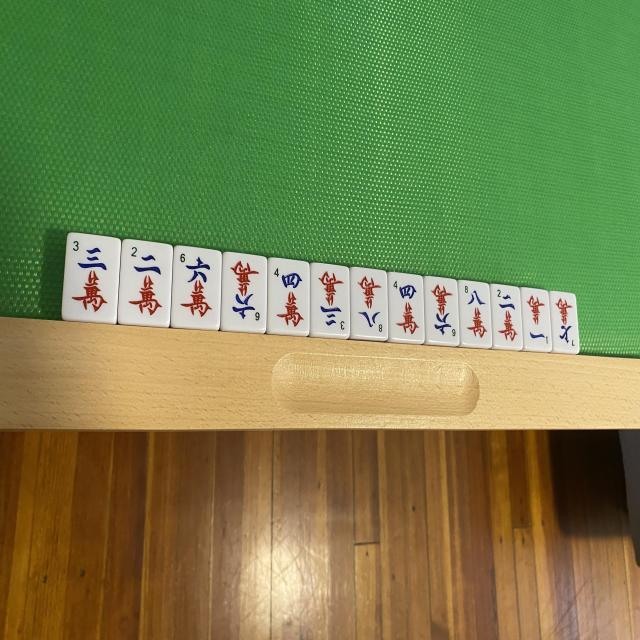sc1: (524, 292, 550, 348)
sc2: (124, 242, 166, 322), (494, 288, 520, 346)
sc3: (69, 238, 113, 318), (316, 268, 348, 334)
sc4: (272, 264, 309, 329), (390, 276, 420, 338)
sc6: (178, 250, 217, 322), (227, 257, 264, 327), (429, 281, 456, 339)
sc7: (554, 297, 576, 348)
sc8: (354, 272, 385, 336), (463, 283, 489, 341)
